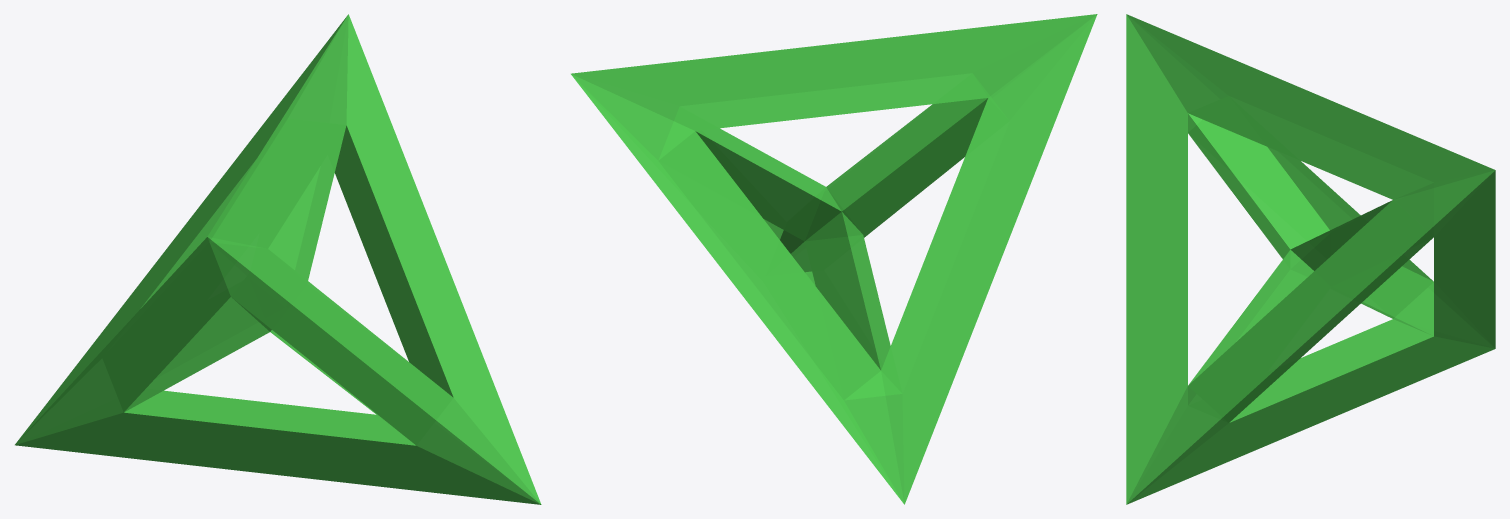
Rendered from RegularMap_A.obj.
3 views of the same model, side by side, from view 1: azimuth 30°, elevation 25°; view 2: azimuth 150°, elevation 25°; view 3: azimuth 270°, elevation 25° (orthographic). The views are drawn at different scales.
Bounding box in the file's own units: 18 × 18 × 18.
